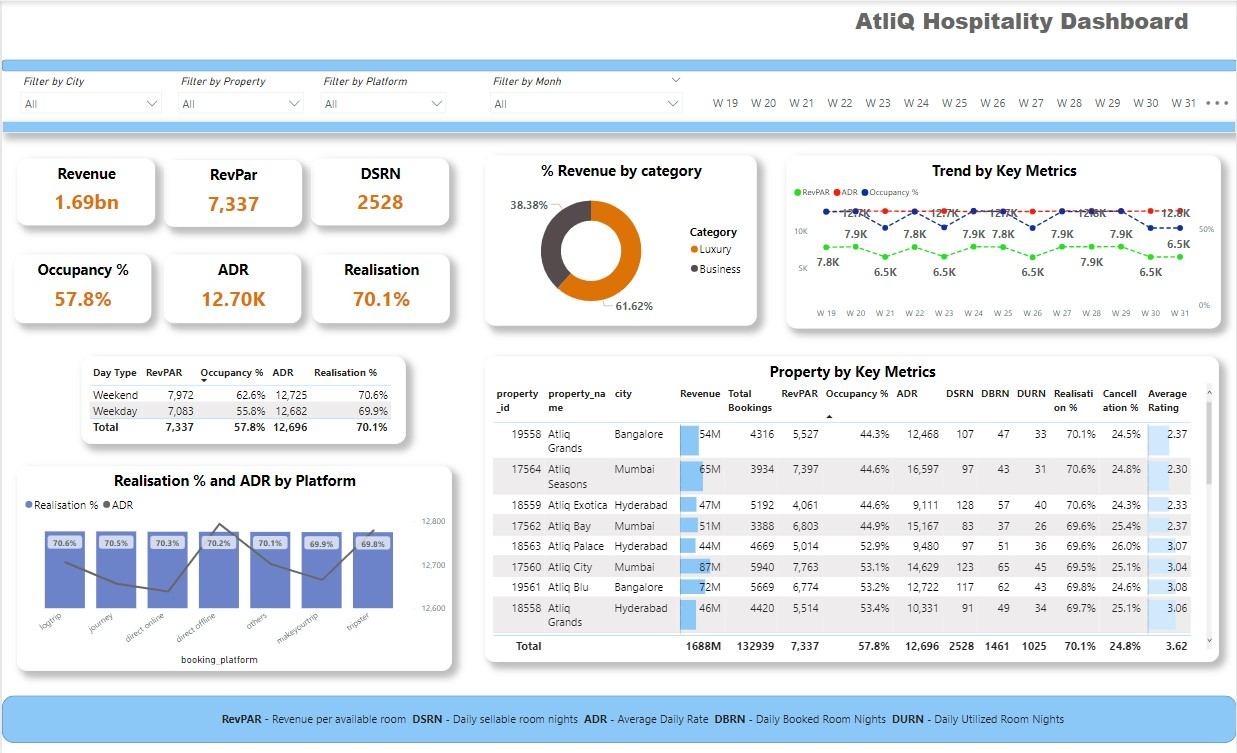

The page's visual inventory and layout, read from the dashboard file:
{"tool":"powerbi","page":{"name":"Home","canvas":[1800,1100],"ordinal":0},"visuals":[{"type":"slicer","fields":{"Values":["dim_hotels.property_name"]},"box":[247.5,102.5,202.5,72.5],"z":0},{"type":"slicer","fields":{"Values":["dim_hotels.city"]},"box":[17.5,102.5,225,75],"z":1000},{"type":"slicer","fields":{"Values":["dim_date.mmm yy"]},"box":[702.5,102.5,300,75],"z":2000},{"type":"tableEx","title":"Property by Key Metrics","fields":{"Values":["dim_hotels.property_id","dim_hotels.property_name","dim_hotels.city","key_measures.Revenue","key_measures.Total Bookings","key_measures.Rev Par","key_measures.Occupancy %","key_measures.ADR","key_measures.DSRN","key_measures.DBRN","key_measures.DURN","key_measures.Realisation %"]},"box":[705,517.5,1070,445],"z":3000},{"type":"lineChart","title":"Trend by Key Metrics","fields":{"Category":["dim_date.mmm yy.Variation.Date Hierarchy.Month","dim_date.week no"],"Y2":["key_measures.Occupancy %"],"Y":["key_measures.Rev Par","key_measures.ADR"]},"box":[1142.7,225.3,633.3,252],"z":4000},{"type":"tableEx","fields":{"Values":["dim_date.day type","key_measures.Rev Par","key_measures.Occupancy %","key_measures.ADR","key_measures.Realisation %"]},"box":[115,517.5,472.5,127.5],"z":5000},{"type":"lineStackedColumnComboChart","title":"Realisation % and ADR by Platform","fields":{"Category":["fact_bookings.booking_platform"],"Y":["key_measures.Realisation %"],"Y2":["key_measures.ADR"]},"box":[21.9,677.5,633.8,298.7],"z":6000},{"type":"slicer","fields":{"Values":["dim_date.week no"]},"box":[1002.5,102.5,772.5,90],"z":7000},{"type":"card","title":"Revenue","fields":{"Values":["key_measures.Revenue"]},"box":[22.5,230,201.3,97.6],"z":8000,"group":"g2"},{"type":"shape","box":[0,1013.3,1800,69.3],"z":8000},{"type":"card","title":"RevPar","fields":{"Values":["key_measures.Rev Par"]},"box":[236.8,232.4,201.3,97.6],"z":9000,"group":"g2"},{"type":"group","id":"g1","title":"Group 1","box":[17.5,370,635,102.5],"z":9000},{"type":"card","title":"Occupancy %","fields":{"Values":["key_measures.Occupancy %"]},"box":[17.5,370.5,200,100],"z":9000,"group":"g1"},{"type":"slicer","fields":{"Values":["fact_bookings.booking_platform"]},"box":[455,102.5,202.5,72.5],"z":10000},{"type":"group","id":"g2","title":"Group 2","box":[22.5,230,630,100],"z":11000},{"type":"card","title":"DSRN","fields":{"Values":["key_measures.DSRN"]},"box":[451.2,230.4,201.3,97.6],"z":11000,"group":"g2"},{"type":"card","title":"ADR","fields":{"Values":["key_measures.ADR"]},"box":[235.5,370,200,100],"z":12000,"group":"g1"},{"type":"textbox","box":[290,1030,1282.5,40],"z":12000},{"type":"donutChart","title":"% Revenue by category","fields":{"Category":["dim_hotels.category"],"Y":["key_measures.Revenue"]},"box":[704,225.3,396,248],"z":13000},{"type":"card","title":"Realisation","fields":{"Values":["key_measures.Realisation %"]},"box":[453.6,370.9,200,100],"z":13000,"group":"g1"},{"type":"shape","box":[0,175,1800,17.5],"z":14000},{"type":"shape","box":[0,85,1800,17.5],"z":15000},{"type":"textbox","box":[1175,0,625,85],"z":16000}]}

Visuals, with their boxes in screenshot pixels (x1, y1, x2, y2), scaled from the page's 1800x1100 canvas onto the 1237x753 screenshot:
slicer - dim_hotels.property_name: 170/70/309/120
slicer - dim_hotels.city: 12/70/167/122
slicer - dim_date.mmm yy: 483/70/689/122
"Property by Key Metrics" tableEx: 484/354/1220/659
"Trend by Key Metrics" lineChart: 785/154/1221/327
tableEx - dim_date.day type x key_measures.Rev Par: 79/354/404/442
"Realisation % and ADR by Platform" lineStackedColumnComboChart: 15/464/451/668
slicer - dim_date.week no: 689/70/1220/132
"Revenue" card: 15/157/154/224
shape: 0/694/1236/741
"RevPar" card: 163/159/301/226
"Group 1" group: 12/253/448/323
"Occupancy %" card: 12/254/149/322
slicer - fact_bookings.booking_platform: 313/70/452/120
"Group 2" group: 15/157/448/226
"DSRN" card: 310/158/448/225
"ADR" card: 162/253/299/322
textbox: 199/705/1081/732
"% Revenue by category" donutChart: 484/154/756/324
"Realisation" card: 312/254/449/322
shape: 0/120/1236/132
shape: 0/58/1236/70
textbox: 807/0/1236/58
